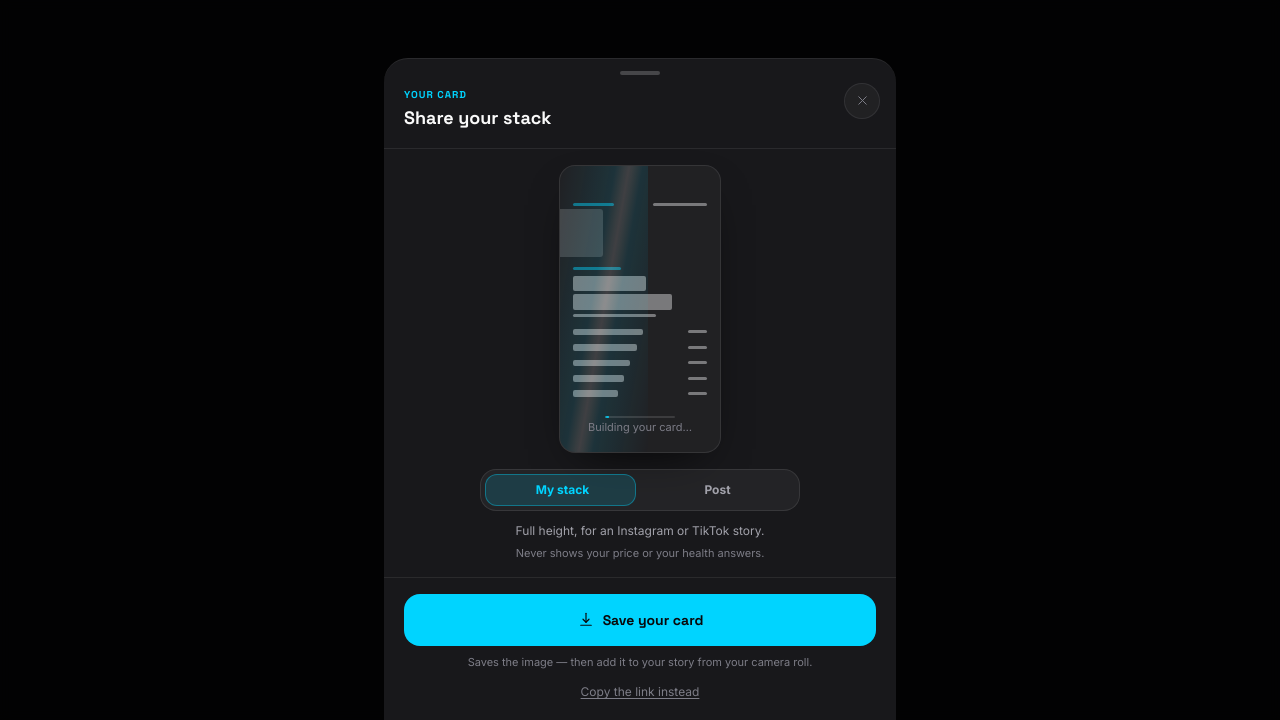
Test: the ladder › falls back to the link when the card cannot be built
This screenshot has width=1280, height=720.
Click the button "Save your card": {"x": 640, "y": 620} [404, 594, 876, 646]
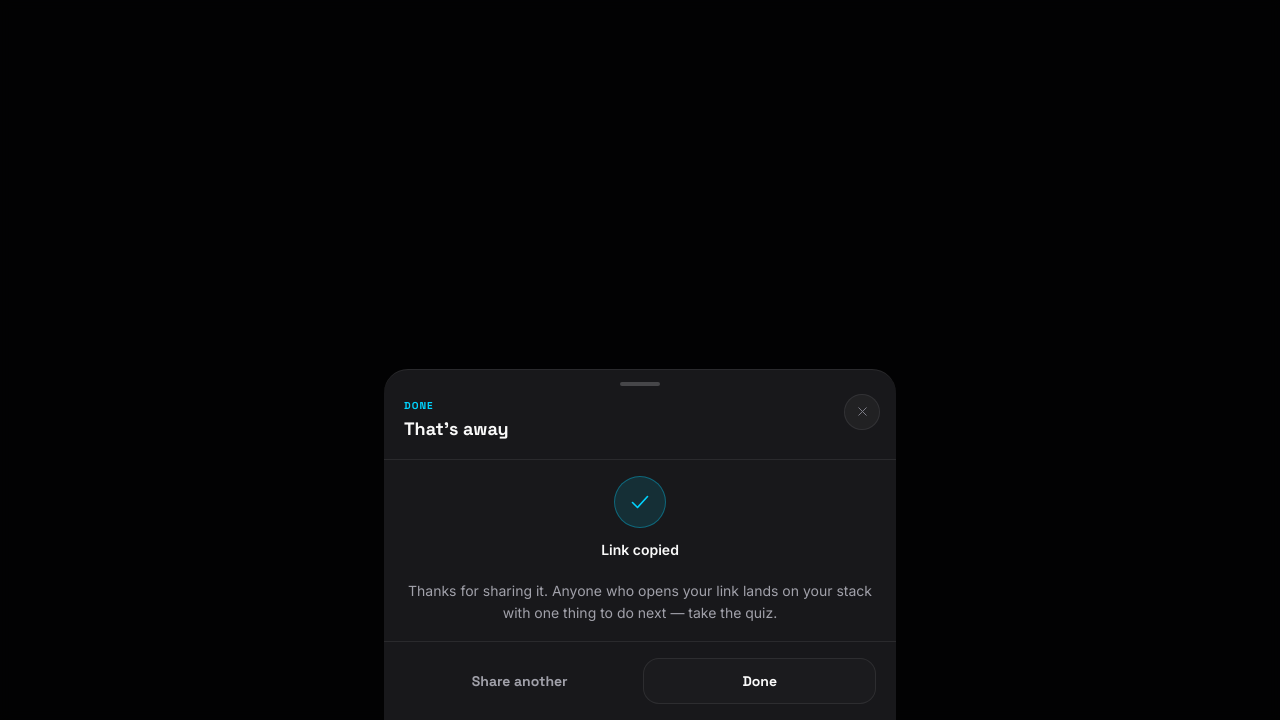
Expected: the text "Link copied" is shown, [601, 540, 679, 560]
